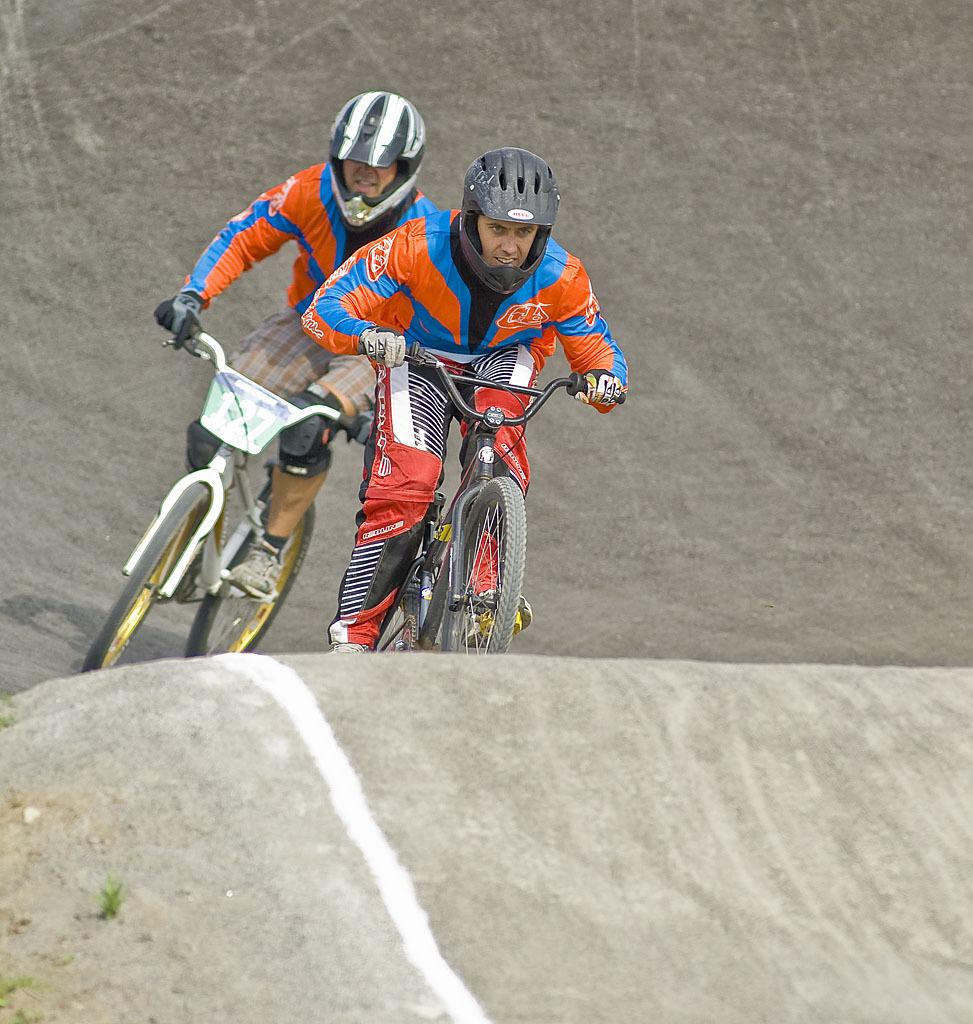helmet: (458, 146, 560, 295), (329, 90, 427, 233)
